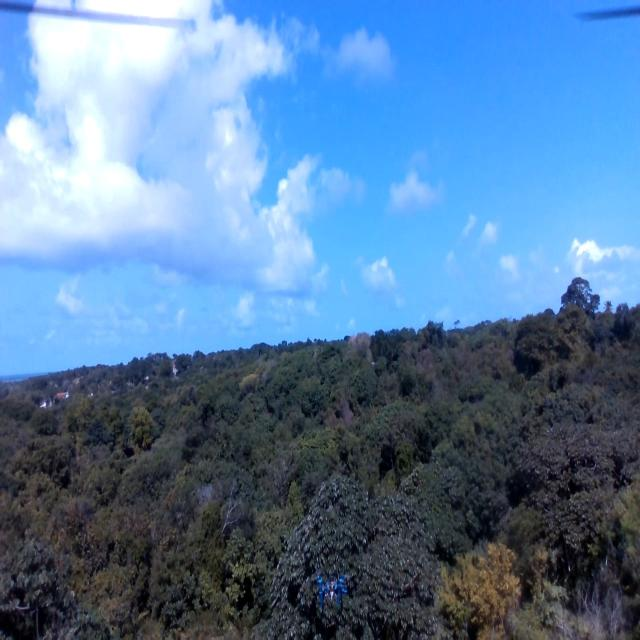-uav-: (310, 567, 353, 624)
